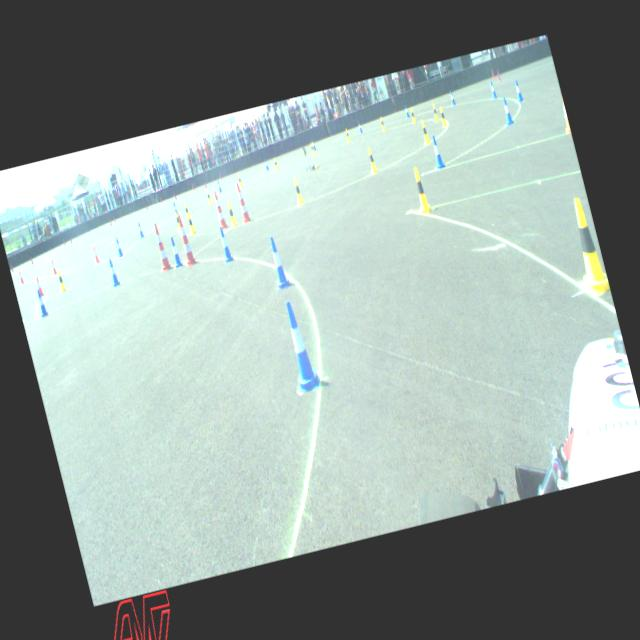blue_cone: (277, 297, 322, 392), (264, 234, 292, 290), (218, 226, 234, 262), (429, 134, 445, 168), (168, 236, 183, 267), (500, 96, 514, 125), (35, 288, 49, 316), (108, 258, 120, 286), (512, 78, 524, 101), (114, 236, 123, 256), (488, 80, 497, 98), (136, 221, 144, 238), (448, 90, 456, 105), (403, 104, 410, 118), (357, 120, 363, 133), (264, 158, 270, 171), (172, 201, 178, 214), (216, 180, 222, 192), (311, 138, 316, 150)
large_orange_cone: (173, 213, 198, 266), (150, 221, 173, 271), (234, 181, 252, 223), (212, 188, 229, 228)
orange_cone: (556, 94, 570, 132), (91, 245, 100, 263), (36, 276, 44, 296), (49, 258, 58, 275), (18, 269, 24, 283)
unknown_cone: (496, 69, 501, 81), (490, 68, 494, 78)
yellow_cone: (564, 195, 610, 296), (409, 165, 432, 214), (364, 146, 378, 173), (291, 176, 304, 205), (225, 200, 238, 226), (418, 119, 431, 144), (185, 212, 196, 234), (56, 268, 66, 292), (437, 105, 447, 127), (173, 210, 180, 230), (182, 202, 190, 219), (408, 107, 416, 123), (431, 103, 438, 121), (378, 115, 385, 131), (236, 173, 244, 187), (205, 188, 212, 204), (272, 156, 279, 170), (344, 128, 350, 142), (309, 142, 315, 155)
